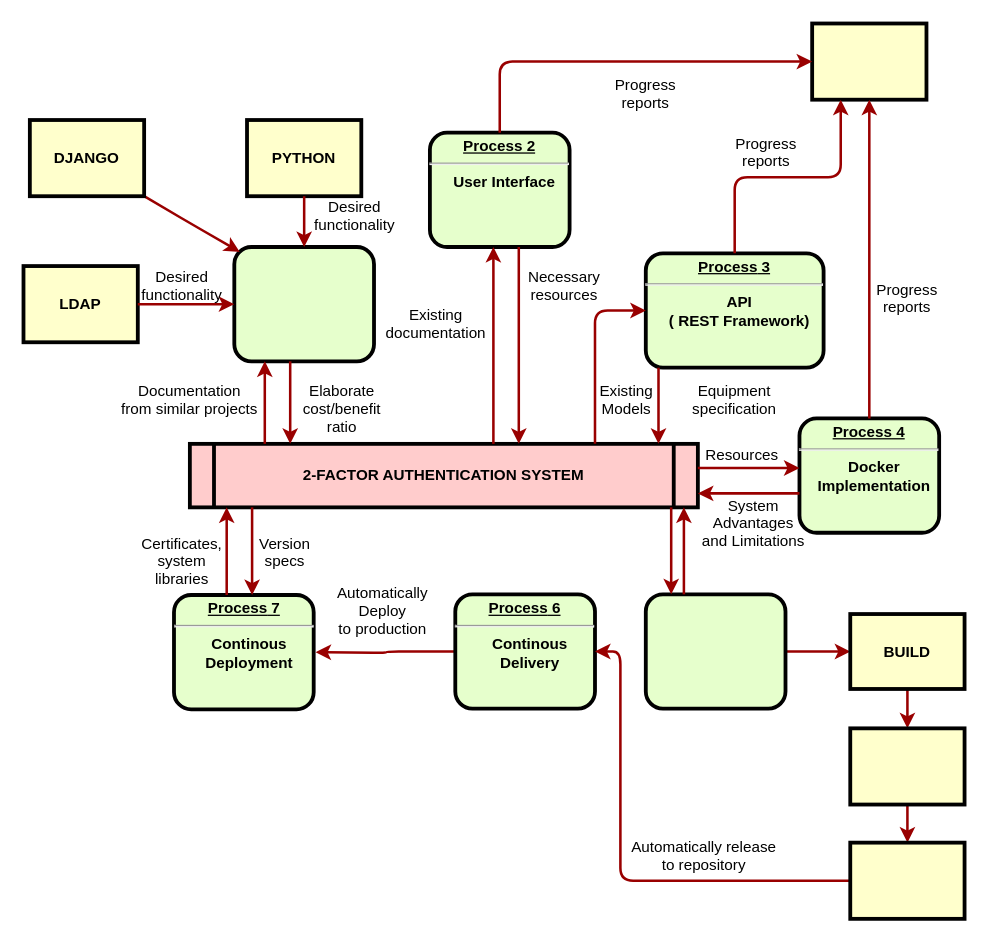
Some shapes in this 988 by 942 pixel diagram are drawn without their labels. The centre of each missing label's shape, as x and y in pixels:
"Management" belongs at (x=869, y=61).
"MERGE" belongs at (x=907, y=880).
"Process 1 Application Development" belongs at (x=303, y=303).
"Process 5 Continous integration" belongs at (x=715, y=651).
"TEST" belongs at (x=907, y=766).
